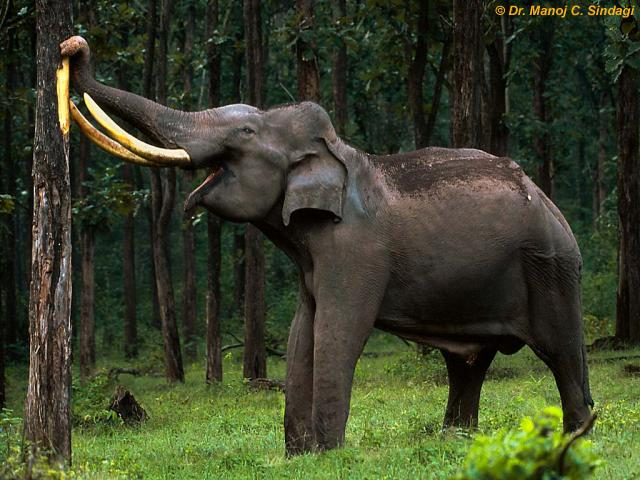elephant: (56, 28, 600, 453)
